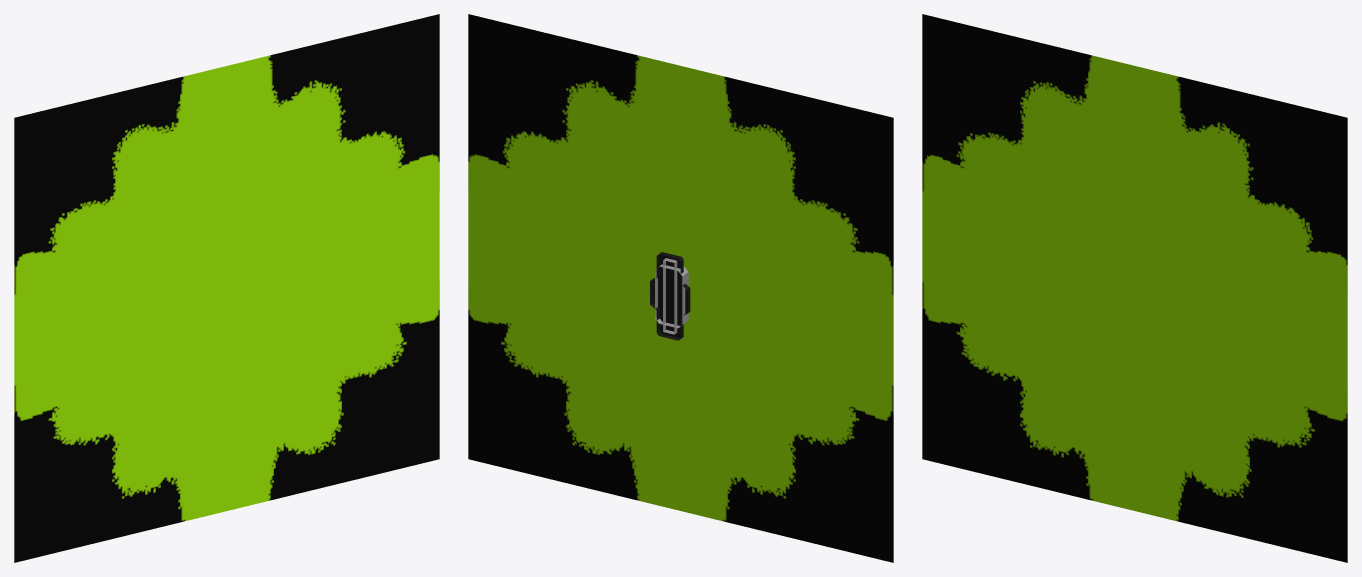
File: GreenLight.FBX
The picture shows the model from 3 angles, left to right: view 1: azimuth 30°, elevation 25°; view 2: azimuth 150°, elevation 25°; view 3: azimuth 330°, elevation 25°; orthographic projection.
Parts seen in each view (by area): view 1: Warning_GreenLight; view 2: Warning_GreenLight, Semaforo Berde; view 3: Warning_GreenLight.
Boxes of the visible parts, x1,y1,x2,y2 form: Warning_GreenLight: (14,14,439,562); Warning_GreenLight: (468,14,893,562); Semaforo Berde: (650,252,690,340); Warning_GreenLight: (922,14,1347,562).
Size of the model in its own units: 2000 by 2000 by 100.
